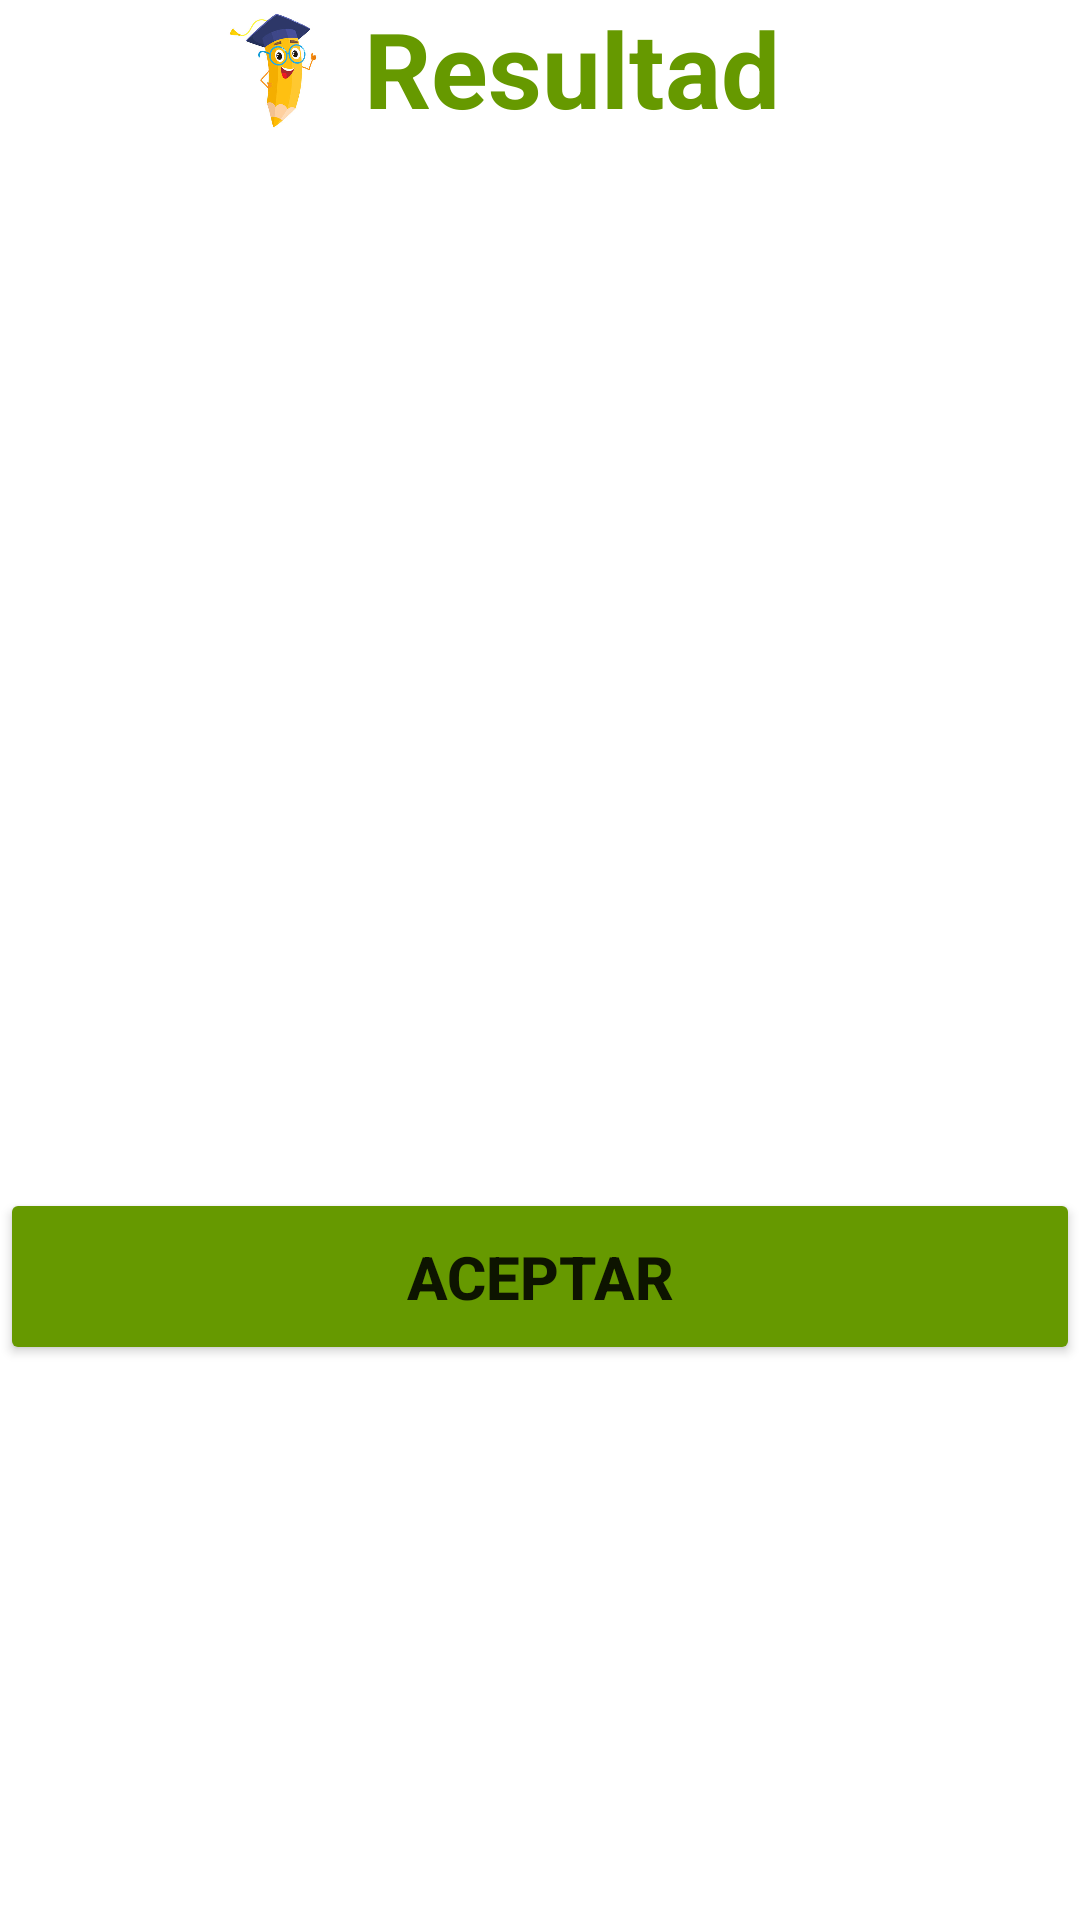

Point at icon controls on the screen. Image size 1080px×1920px, points as (x,y).
lapizestadist: (273,70)
